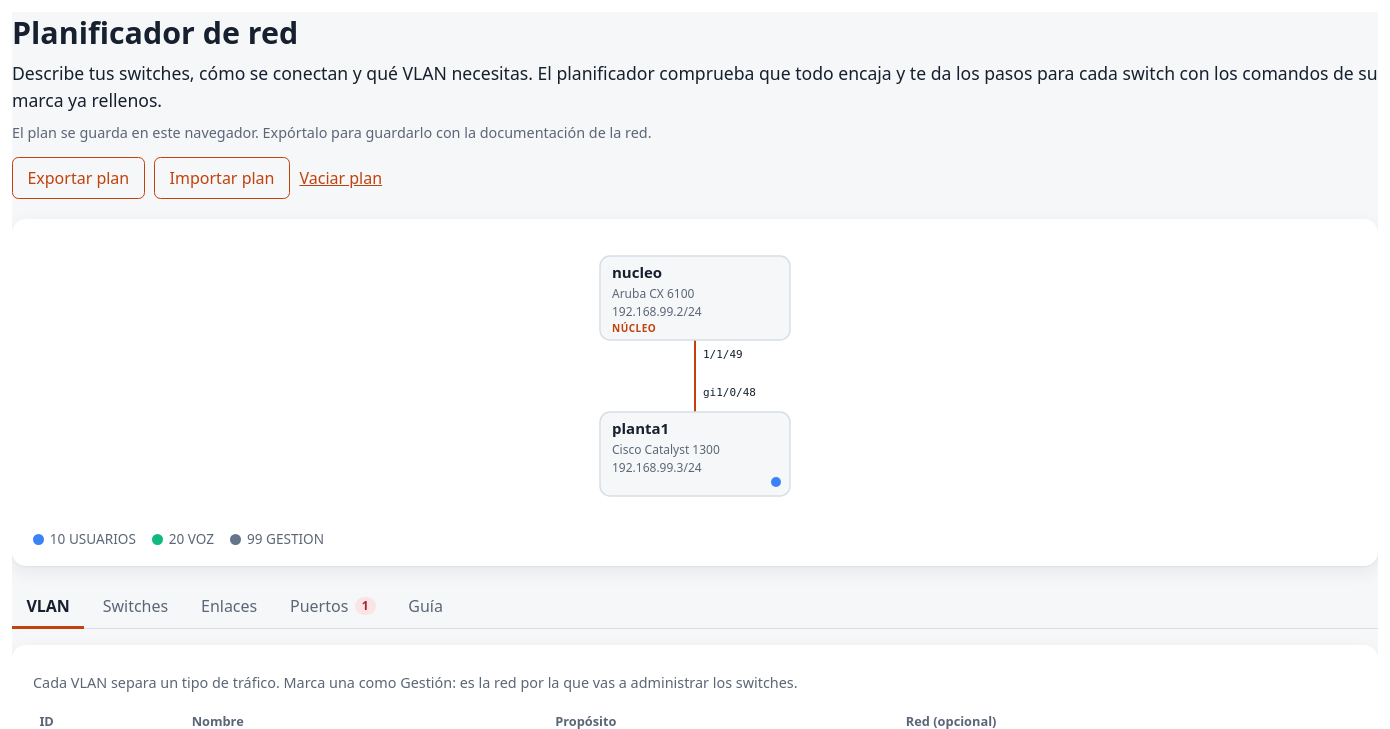
Test: PlannerPage › shows the issues of each section on its tab
Click the tab "Puertos 1" at (333, 607), box [276,586,390,629]
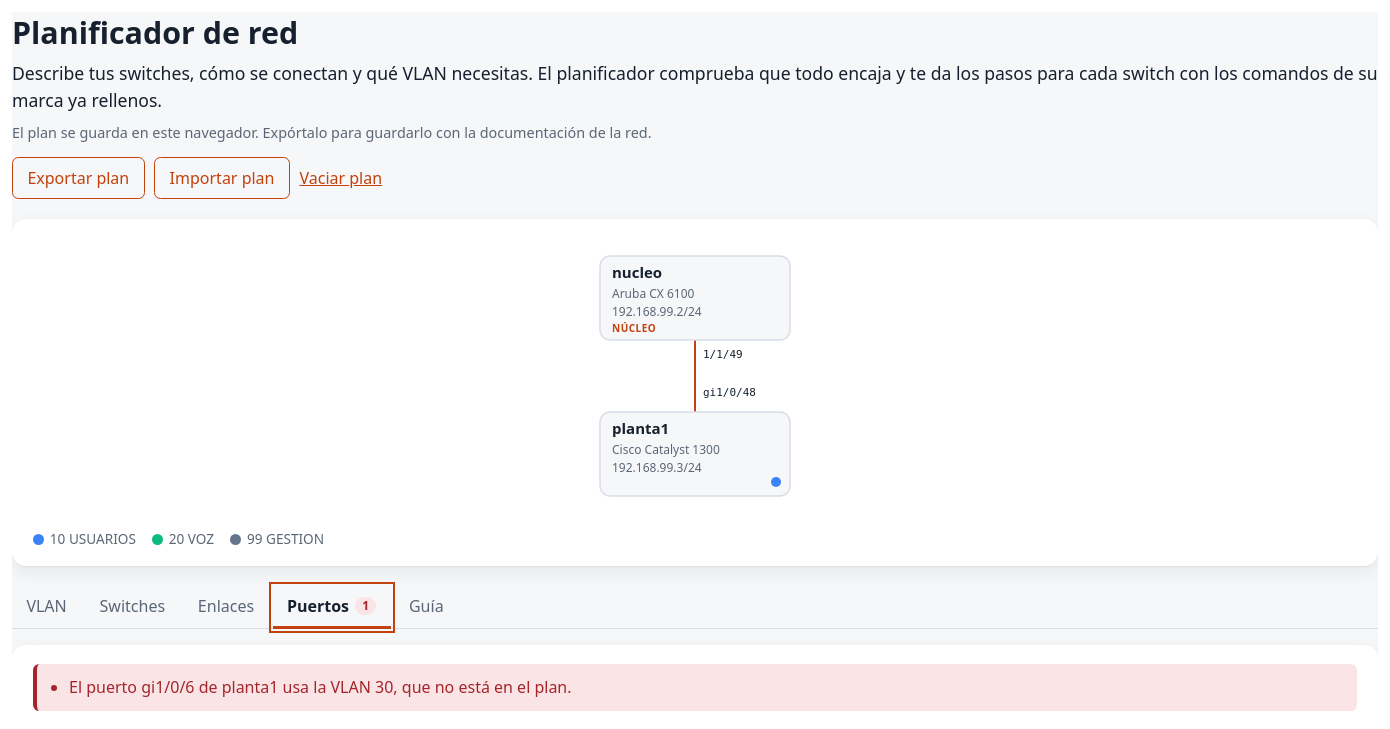
Check: the list item "El puerto gi1/0/6 de planta1 usa la VLAN 30, que no está en el plan." is shown, box [69,676,572,698]
